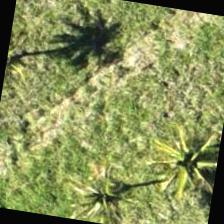Kelapa_Sawit: (50, 132, 154, 223), (139, 108, 223, 209)
